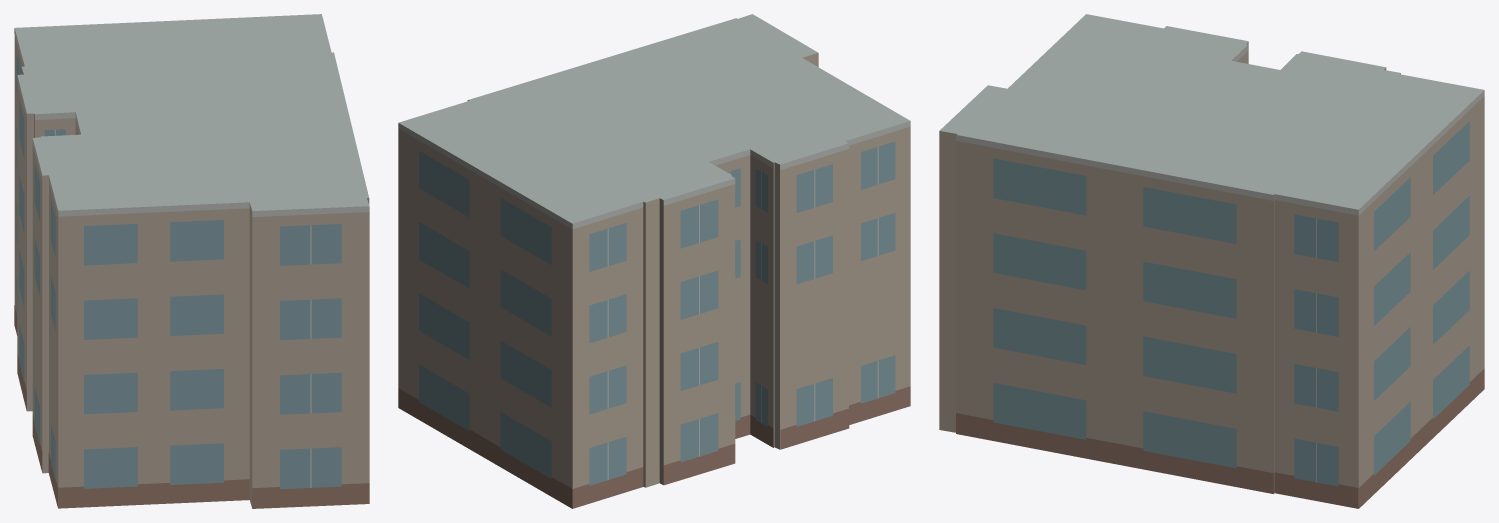
The model's file is survey-upis-32672113.glb.
3 views of the same model, side by side, from view 1: azimuth 30°, elevation 25°; view 2: azimuth 150°, elevation 25°; view 3: azimuth 270°, elevation 25° (orthographic). The views are drawn at different scales.
Parts seen in each view (by area): view 1: survey-upis-32672113.tmp; view 2: survey-upis-32672113.tmp; view 3: survey-upis-32672113.tmp.
Boxes of the visible parts, x1,y1,x2,y2 form: survey-upis-32672113.tmp: (14,14,369,508); survey-upis-32672113.tmp: (398,14,910,508); survey-upis-32672113.tmp: (939,14,1484,508).
Bounding box in the file's own units: 17.28 × 12.3 × 20.34.
